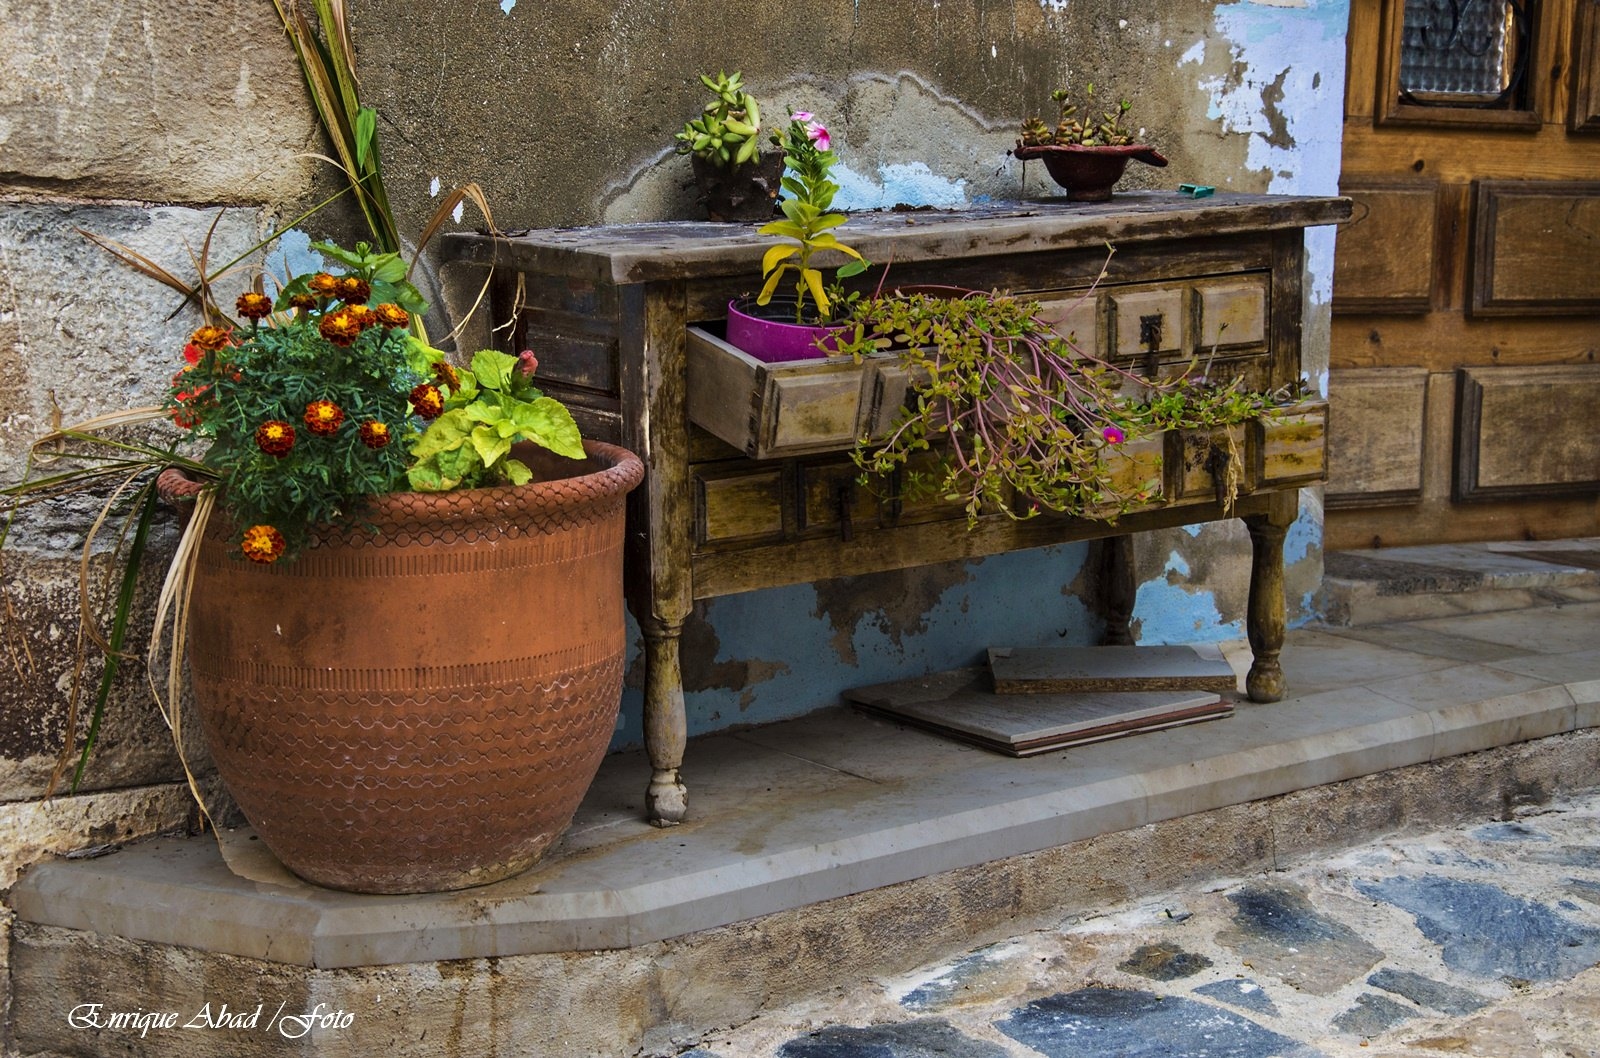potted plant: (169, 254, 641, 888), (678, 77, 789, 217), (1019, 83, 1151, 194)
